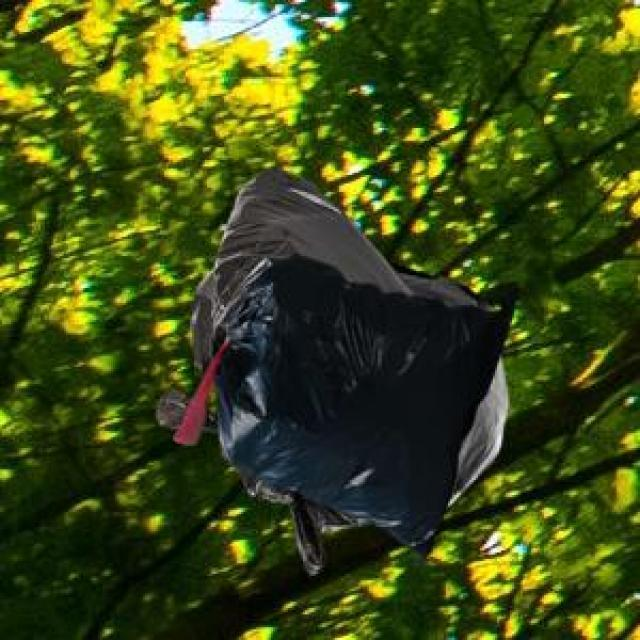waste: (174, 169, 511, 574)
